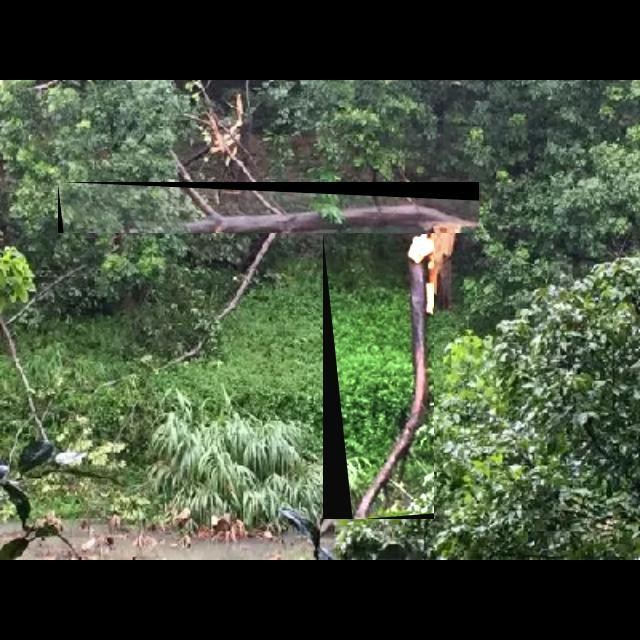fallen_tree: (323, 234, 435, 520), (58, 182, 480, 234)
